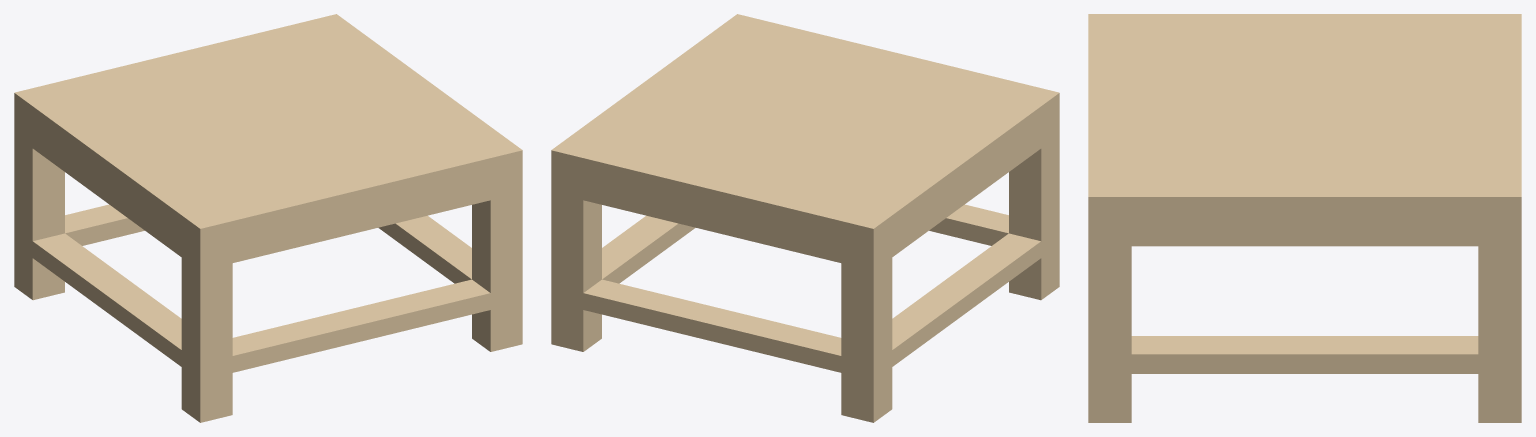
The model's file is tableCoffeeSquare.glb.
3 views of the same model, side by side, from view 1: azimuth 30°, elevation 25°; view 2: azimuth 150°, elevation 25°; view 3: azimuth 270°, elevation 25° (orthographic). The views are drawn at different scales.
Visible parts, largest first — view 1: tableCoffeeSquare; view 2: tableCoffeeSquare; view 3: tableCoffeeSquare.
Part boxes in pixels (<box>): tableCoffeeSquare: <box>14,14,522,422</box>; tableCoffeeSquare: <box>551,14,1059,422</box>; tableCoffeeSquare: <box>1088,14,1521,422</box>.
Bounding box in the file's own units: 4 × 2.3 × 4.
